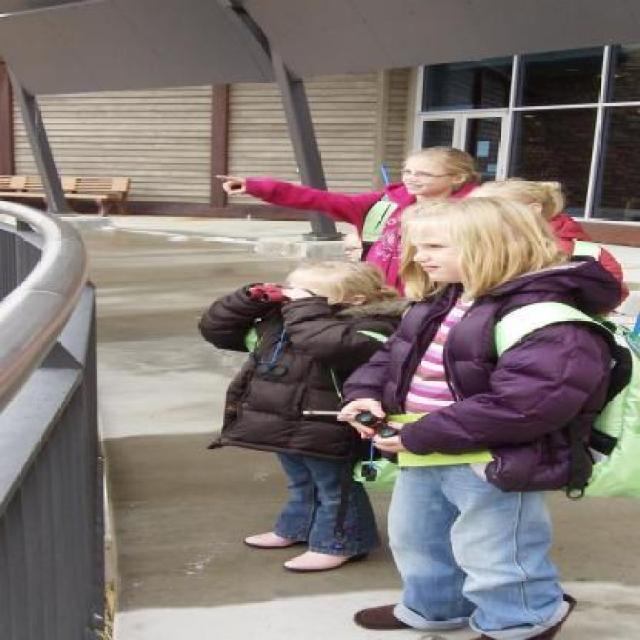backpack: (574, 324, 640, 508)
